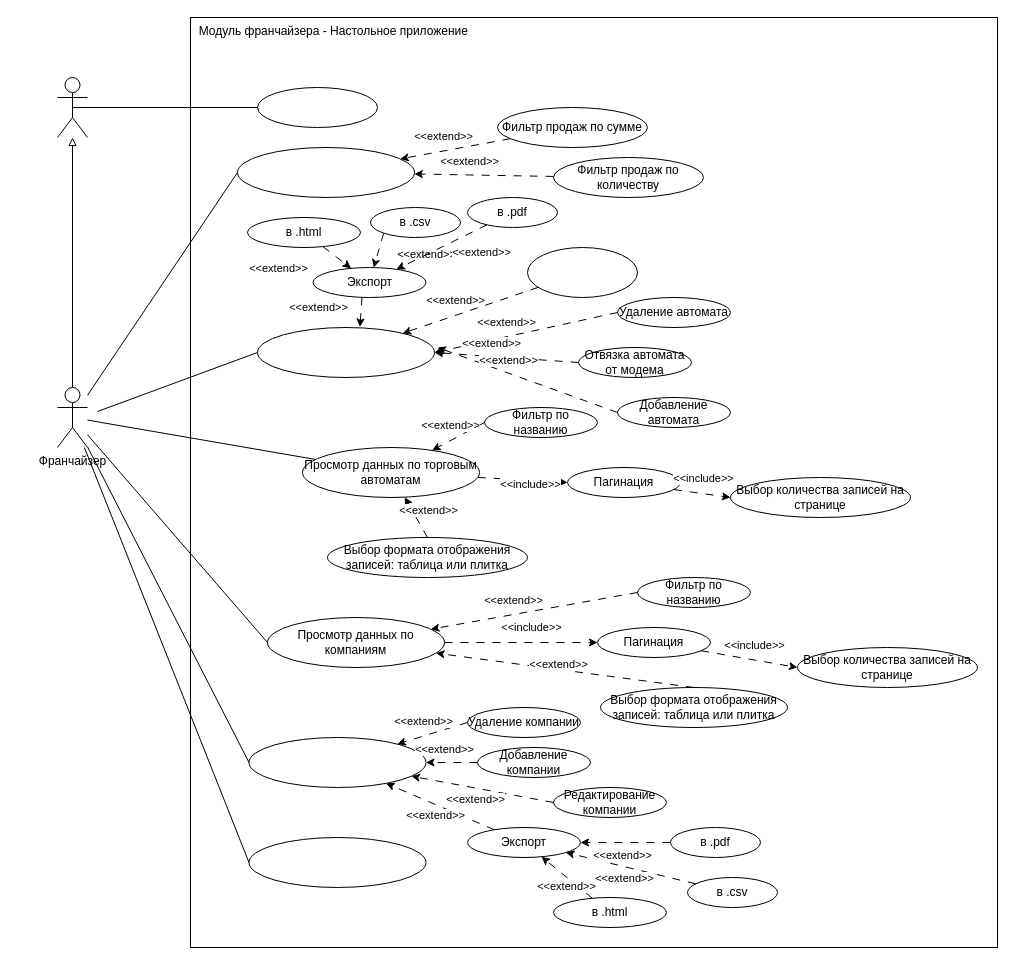
Some shapes in this 1015 by 965 pixel diagram are drawn without their labels. Each missing label, with the centre of its shape:
"Авторизация" goes at [317,107].
"Мониторинг состояния ТА" goes at [337,862].
"Неавторизованный пользователь" goes at [72,107].
"Просмотр информационных блоков и диаграмм" goes at [325,172].
"Редактирование автомата" goes at [582,272].
"Управление данными по компаниям" goes at [337,762].
"Управление данными по торговым автоматам" goes at [345,352].
